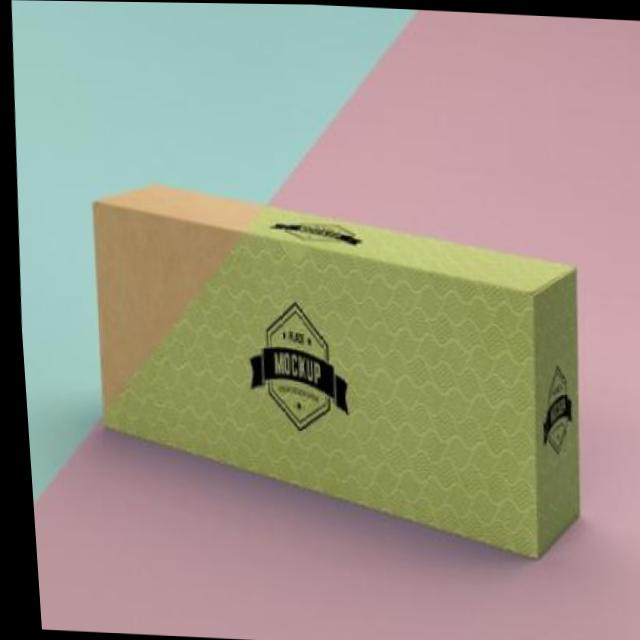box: (67, 169, 617, 591)
